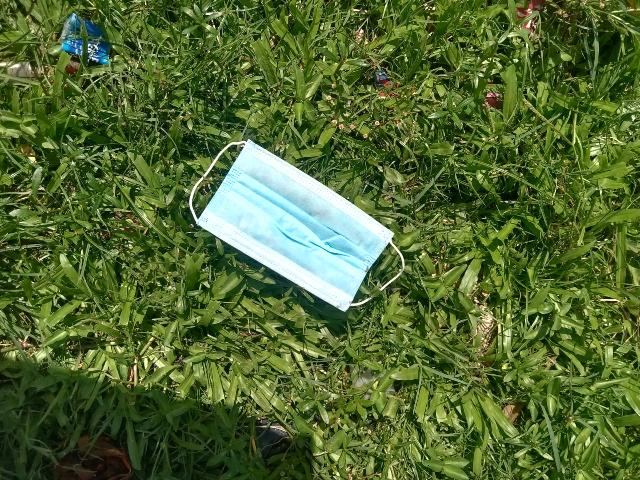mask: (186, 129, 400, 320)
